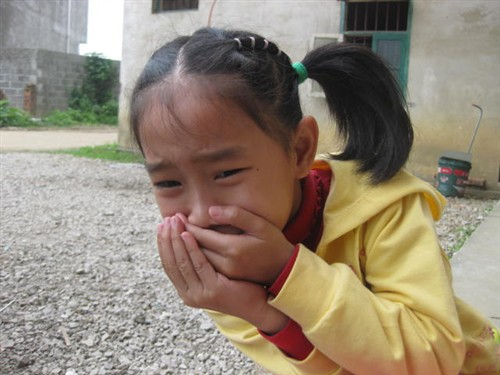face: (135, 92, 298, 281)
